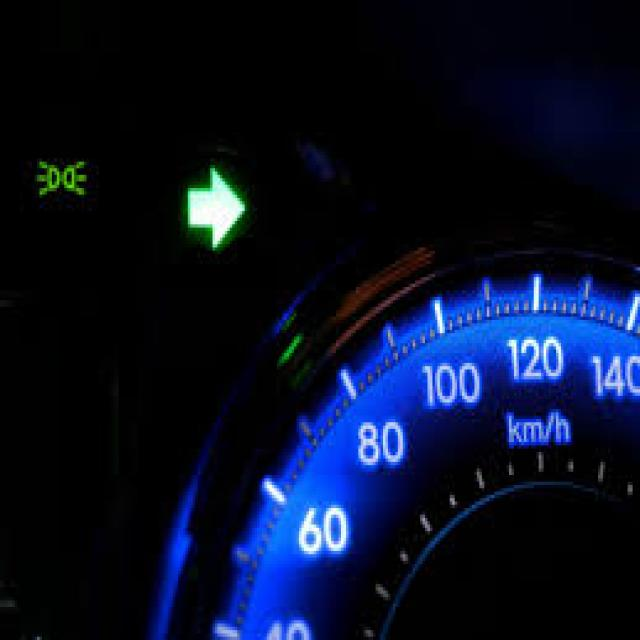kontrolka: (26, 150, 95, 210)
